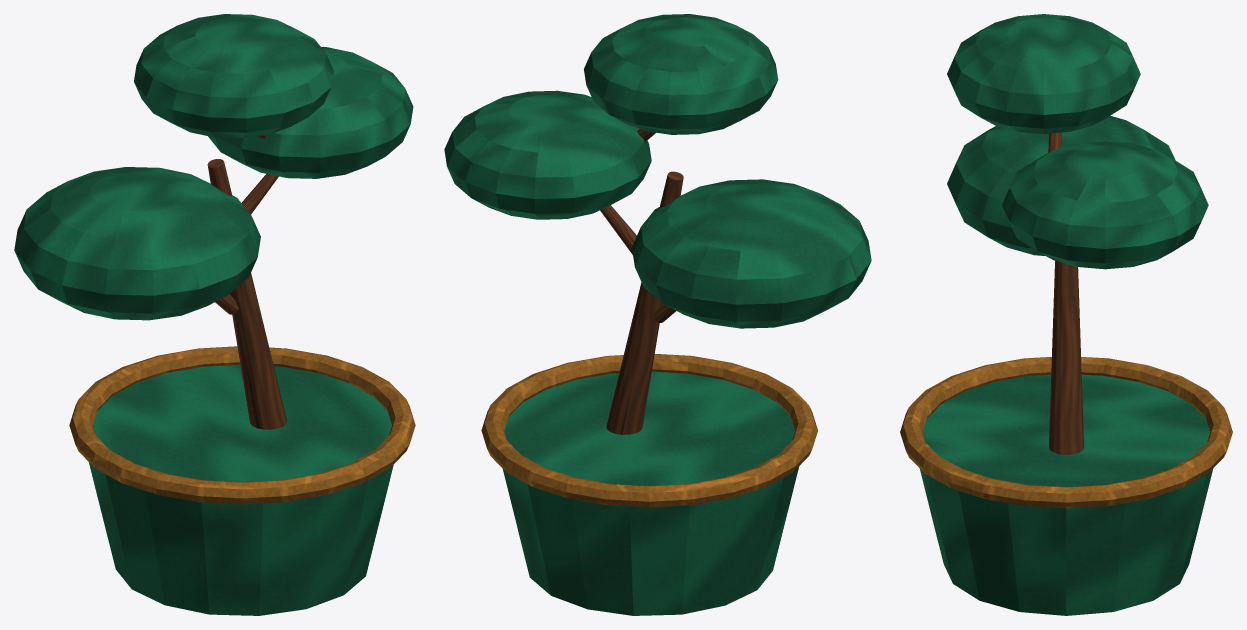
Rendered from bonsai_planter.glb.
3 renders of one model, left to right at view 1: azimuth 30°, elevation 25°; view 2: azimuth 150°, elevation 25°; view 3: azimuth 270°, elevation 25°, orthographic. The views are drawn at different scales.
Parts seen in each view (by area): view 1: bonsai_planter_Jade, bonsai_planter_Brass, bonsai_planter_Walnut; view 2: bonsai_planter_Jade, bonsai_planter_Brass, bonsai_planter_Walnut; view 3: bonsai_planter_Jade, bonsai_planter_Brass, bonsai_planter_Walnut.
Boxes of the visible parts, x1,y1,x2,y2 form: bonsai_planter_Jade: (14,14,413,615); bonsai_planter_Brass: (69,346,415,504); bonsai_planter_Walnut: (207,135,286,429); bonsai_planter_Jade: (444,14,871,615); bonsai_planter_Brass: (481,354,817,507); bonsai_planter_Walnut: (600,129,683,434); bonsai_planter_Jade: (920,14,1212,615); bonsai_planter_Brass: (900,357,1232,508); bonsai_planter_Walnut: (1048,132,1083,454).
Size of the model in its own units: 1.34 by 1.79 by 1.03.
Materials: 4 (4 with a texture image).
